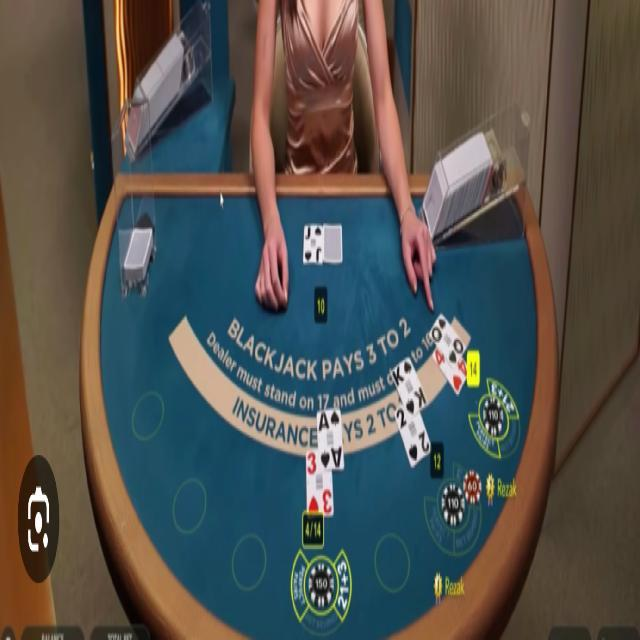Card-2: (394, 402, 431, 469)
Card-3: (306, 449, 333, 515)
Card-4: (432, 346, 469, 394)
Card-A: (317, 407, 344, 468)
Card-J: (304, 224, 323, 264)
Card-K: (391, 354, 427, 422)
Card-Q: (429, 311, 466, 368)
